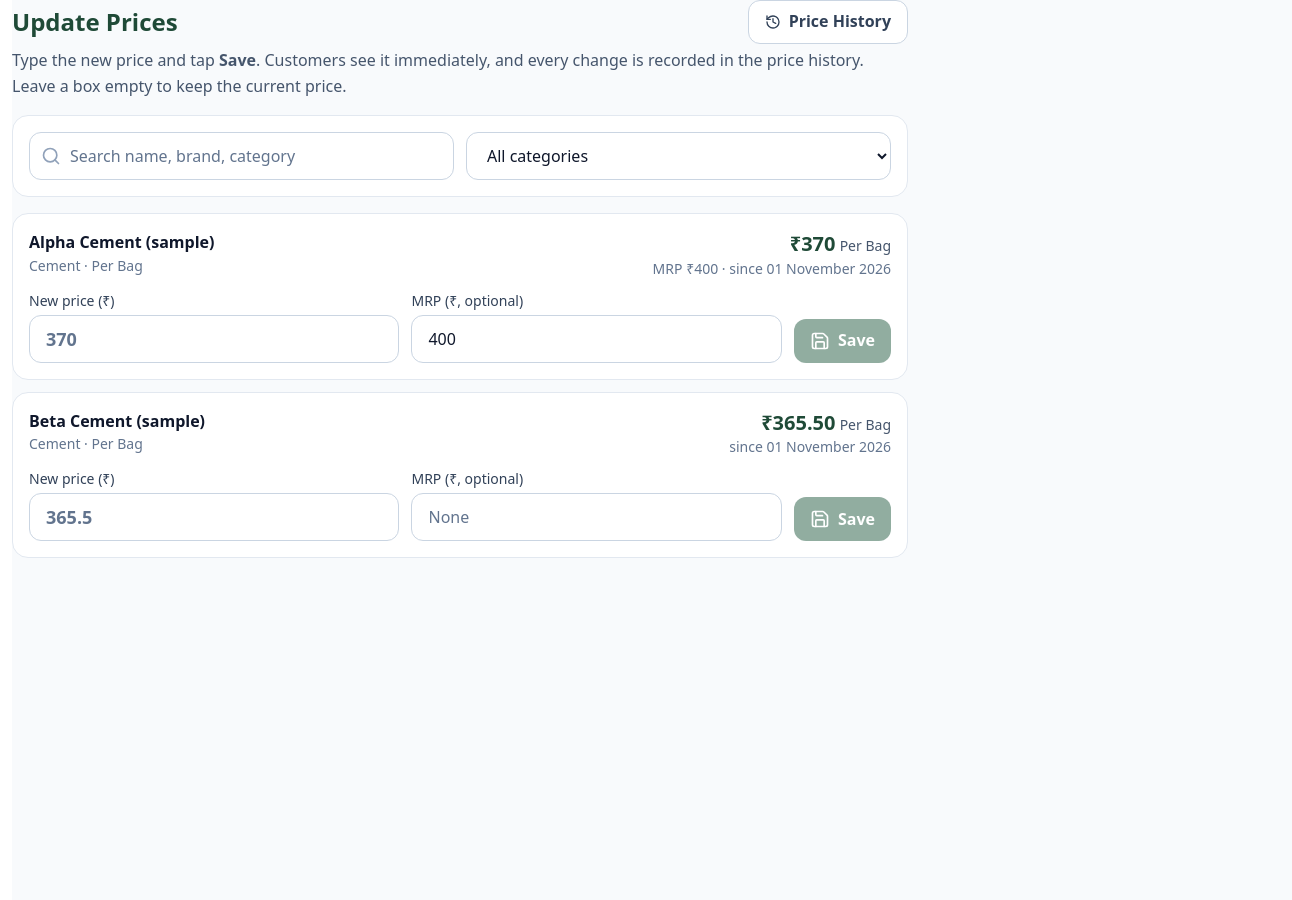
Update Prices page › explains when the price was changed meanwhile and reloads the list
In the field labelled "New price (₹)" below "Alpha Cement (sample)": (214, 339) [29,315,400,363], type "380"
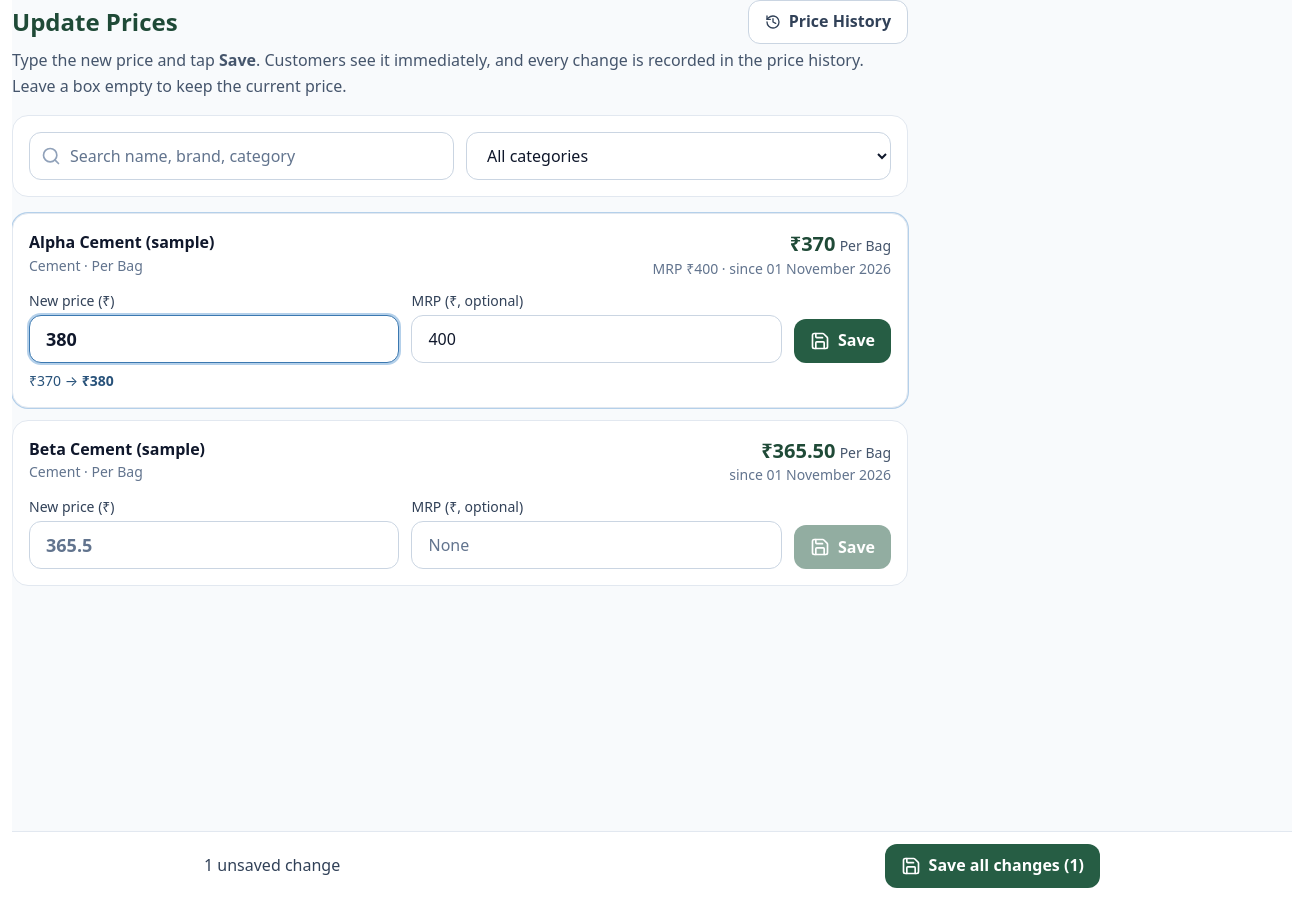
Click the button with aria-label "save price": (842, 341) [794,319,891,363]
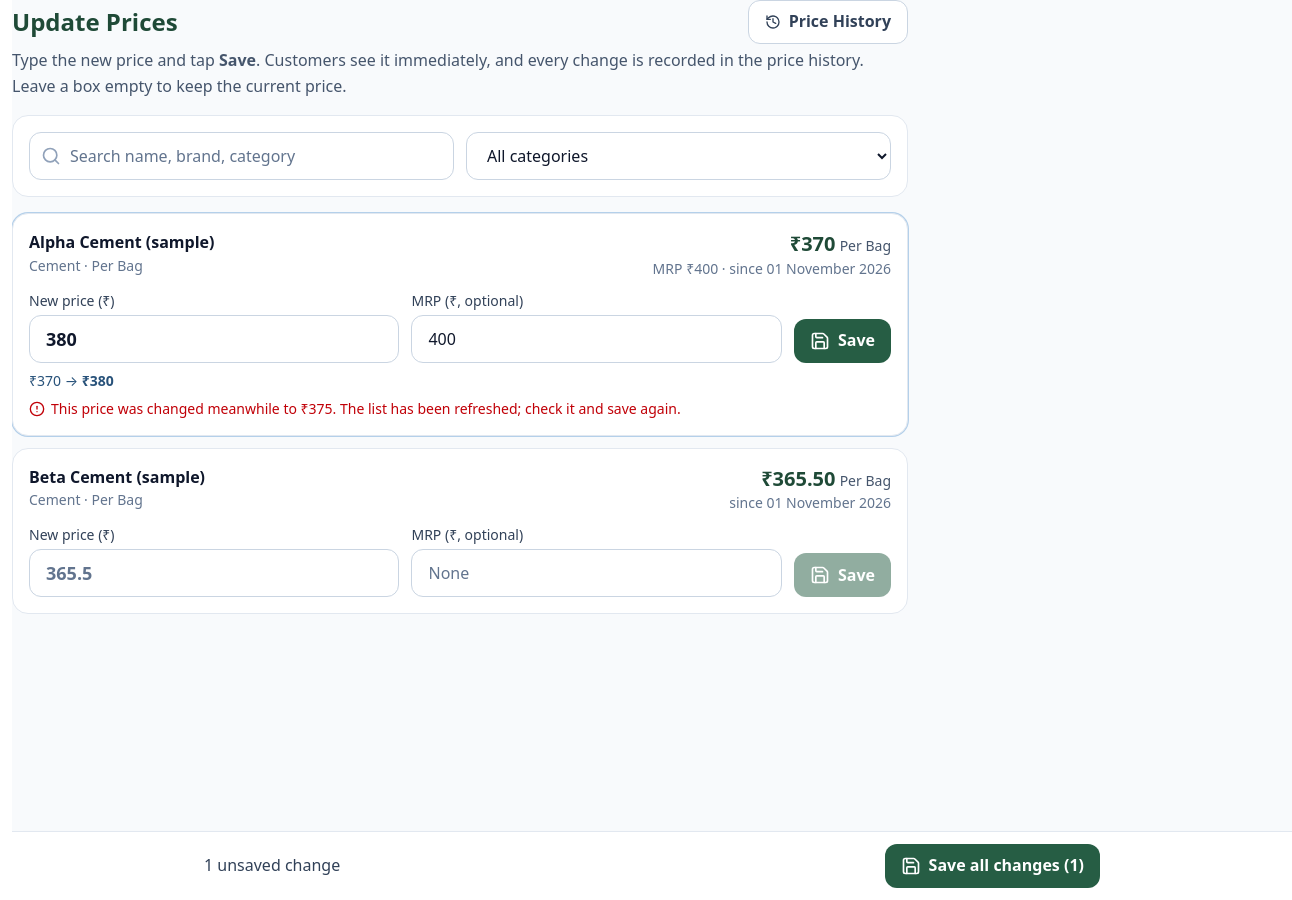
Result: the message shows "This price was changed meanwhile to ₹375" at [51,399,681,418]
